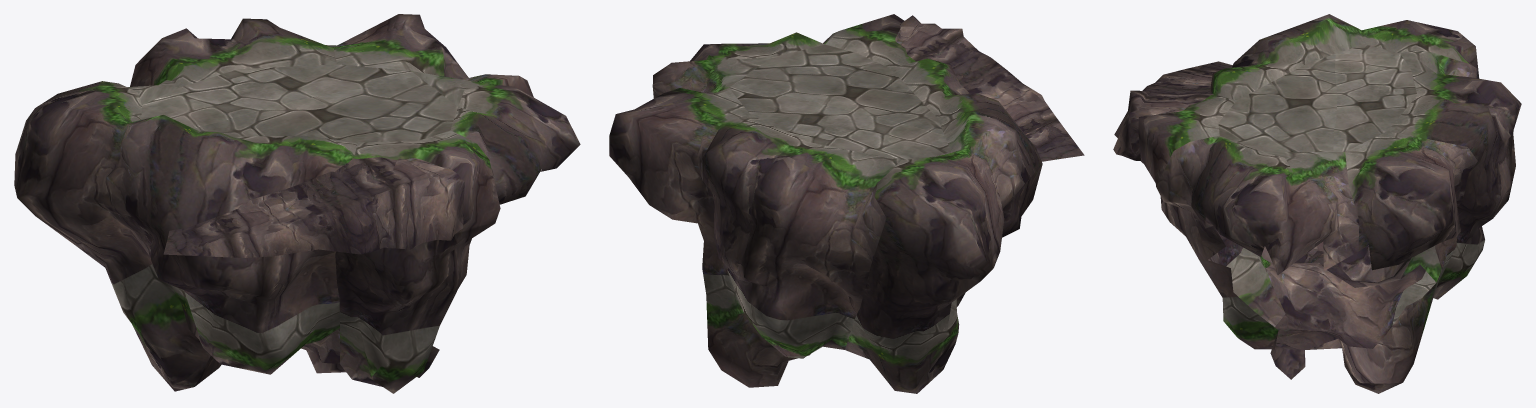
The model's file is Stage_ZhuCheng_ShanTi05.FBX.
The picture shows the model from 3 angles, left to right: view 1: azimuth 30°, elevation 25°; view 2: azimuth 150°, elevation 25°; view 3: azimuth 270°, elevation 25°; orthographic projection. The views are drawn at different scales.
Parts seen in each view (by area): view 1: Stage_ZhuCheng_ShanTi05; view 2: Stage_ZhuCheng_ShanTi05; view 3: Stage_ZhuCheng_ShanTi05.
Boxes of the visible parts, left/top/right/bottom form: Stage_ZhuCheng_ShanTi05: left=14, top=14, right=580, bottom=393; Stage_ZhuCheng_ShanTi05: left=609, top=14, right=1084, bottom=393; Stage_ZhuCheng_ShanTi05: left=1113, top=14, right=1521, bottom=393.
Size of the model in its own units: 1957 by 1378 by 1798.
